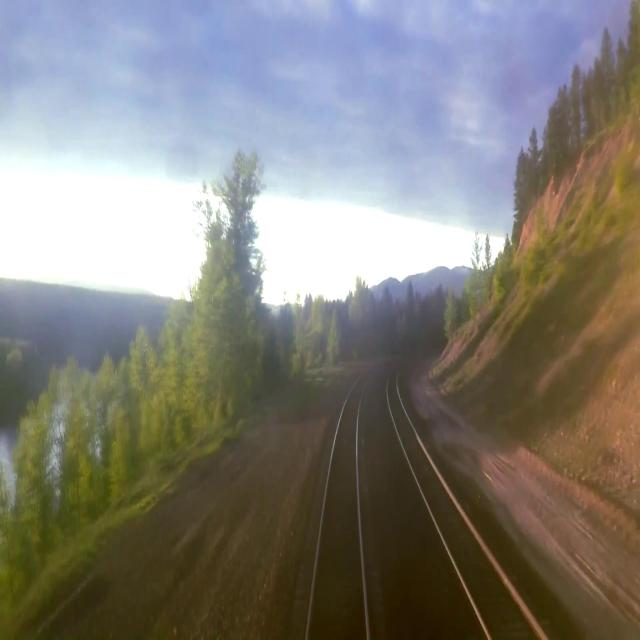rail-track: (389, 372, 539, 639), (309, 374, 368, 639)
